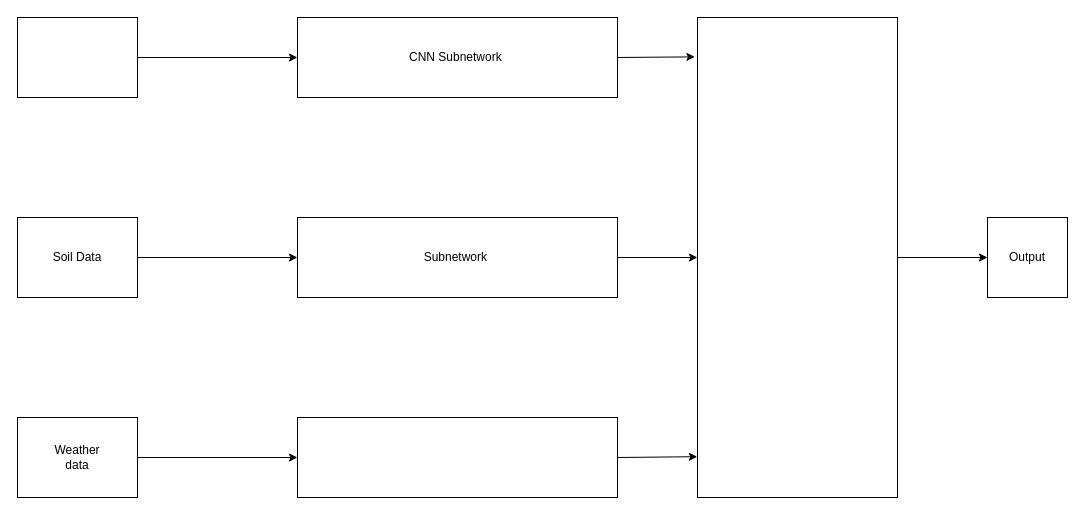
Some shapes in this 1085 by 515 pixel diagram are drawn without their labels. The shapes that lost their labels are listed below. From the top down, each one's centre as x and y in pixels, then its label:
At (x=77, y=57): "Plant leaf image".
At (x=797, y=257): "Fusion model".
At (x=457, y=457): "RNN Subnetwork".
